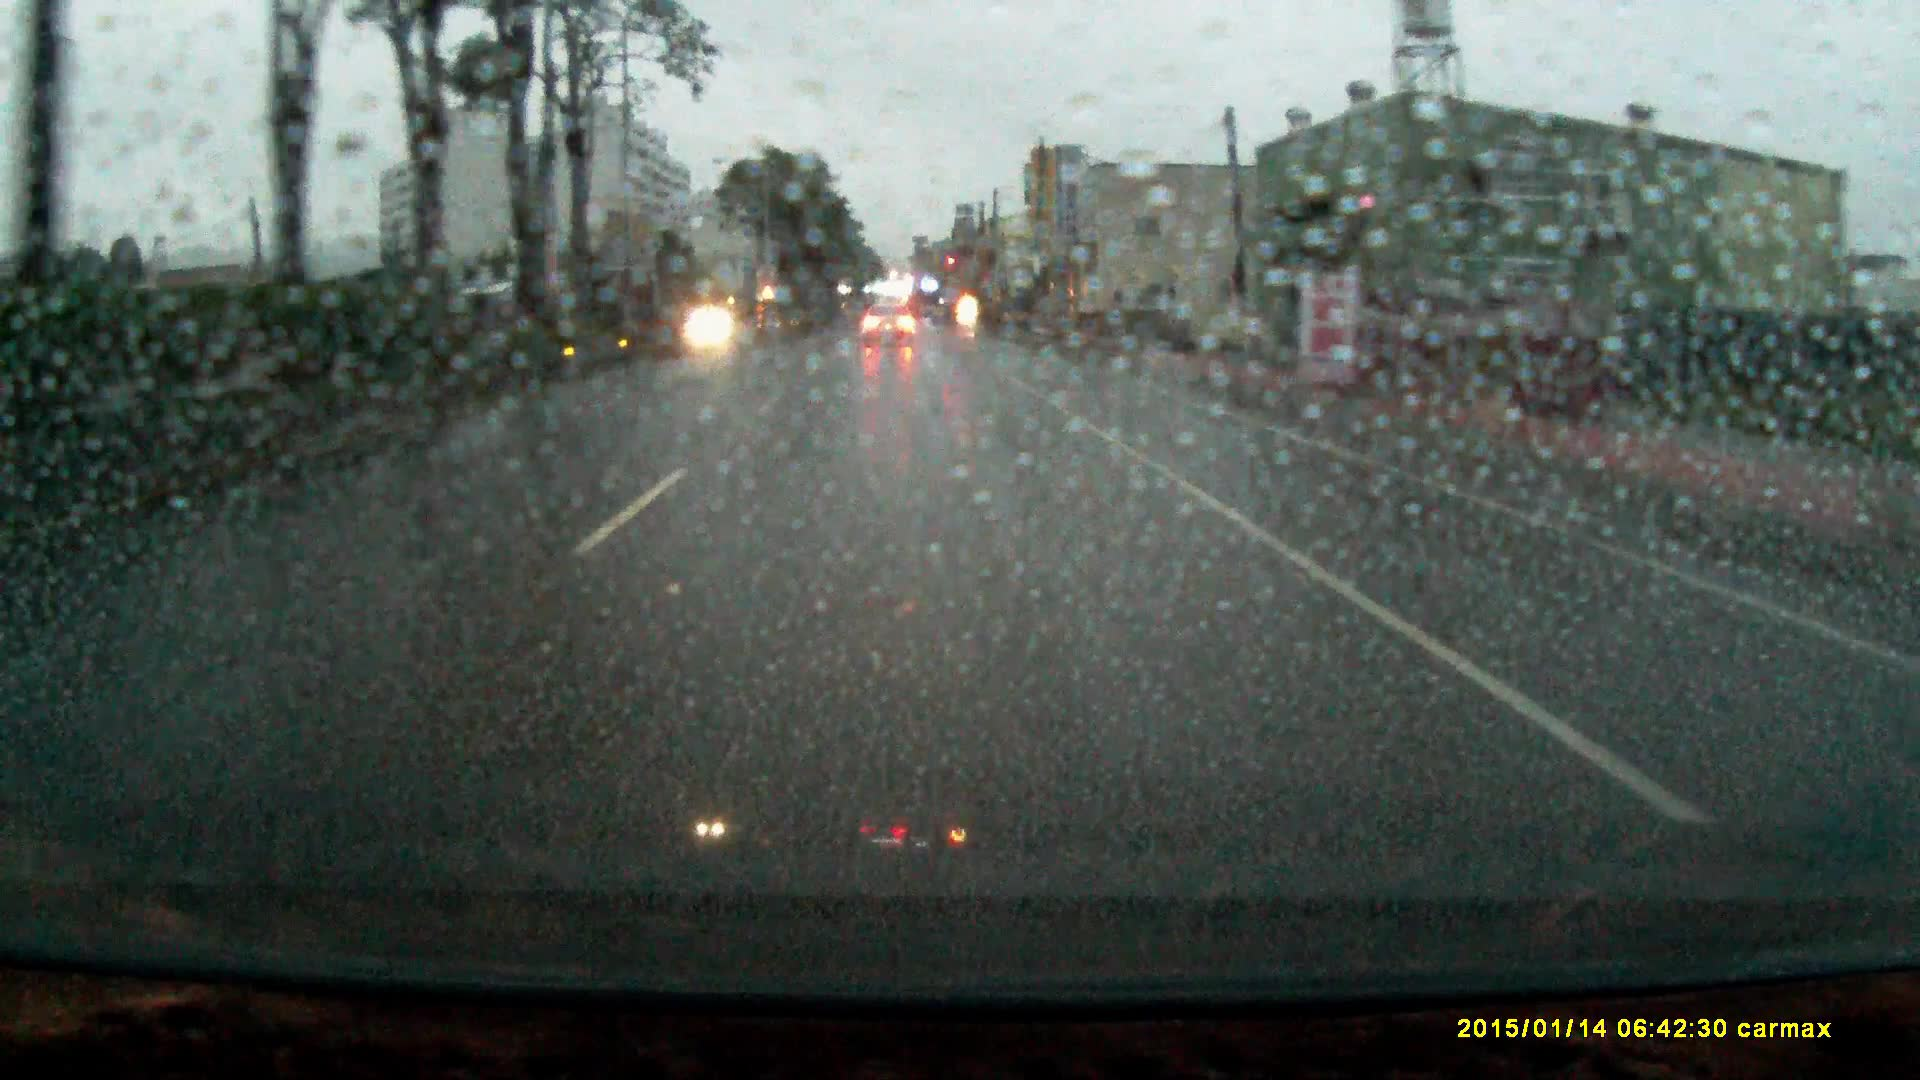vehicle: (862, 301, 916, 344)
